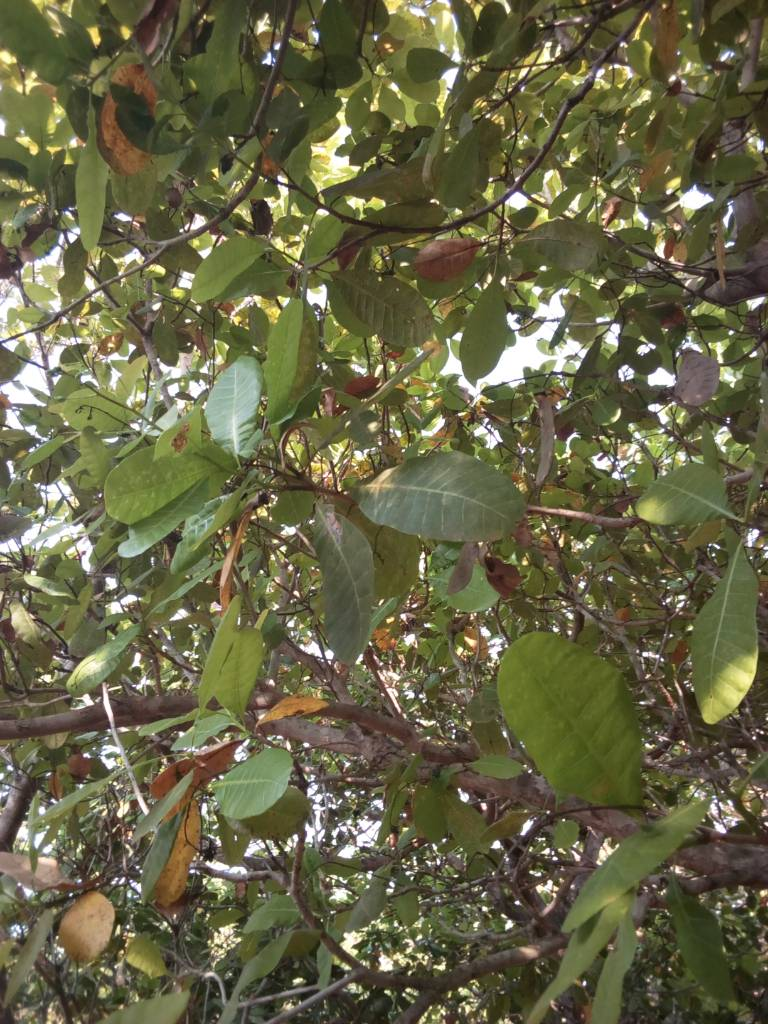Alternariose: (488, 630, 646, 805), (96, 441, 221, 522)
